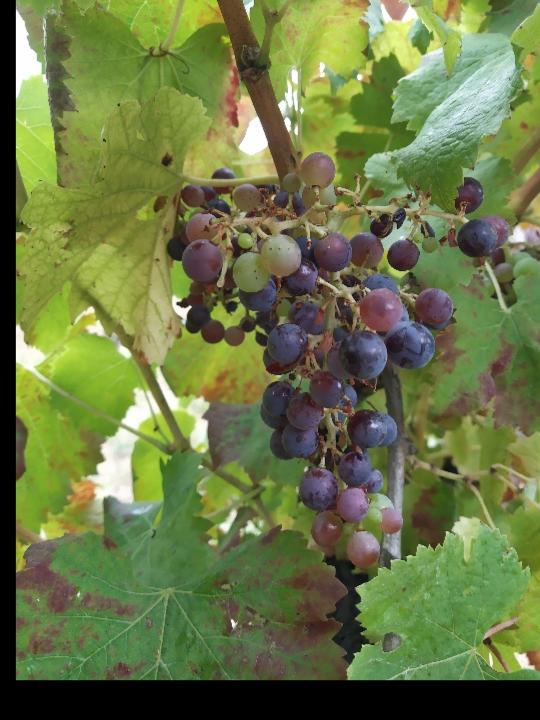grape: (163, 151, 512, 572)
